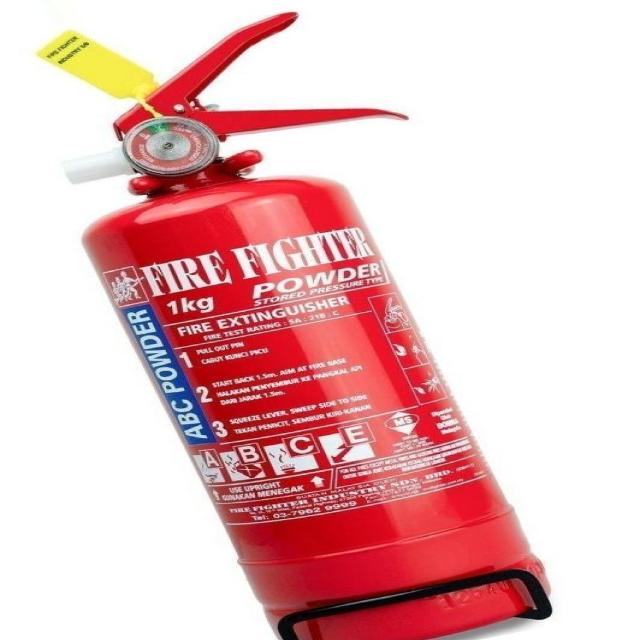fire_extinguisher: (22, 6, 566, 639)
